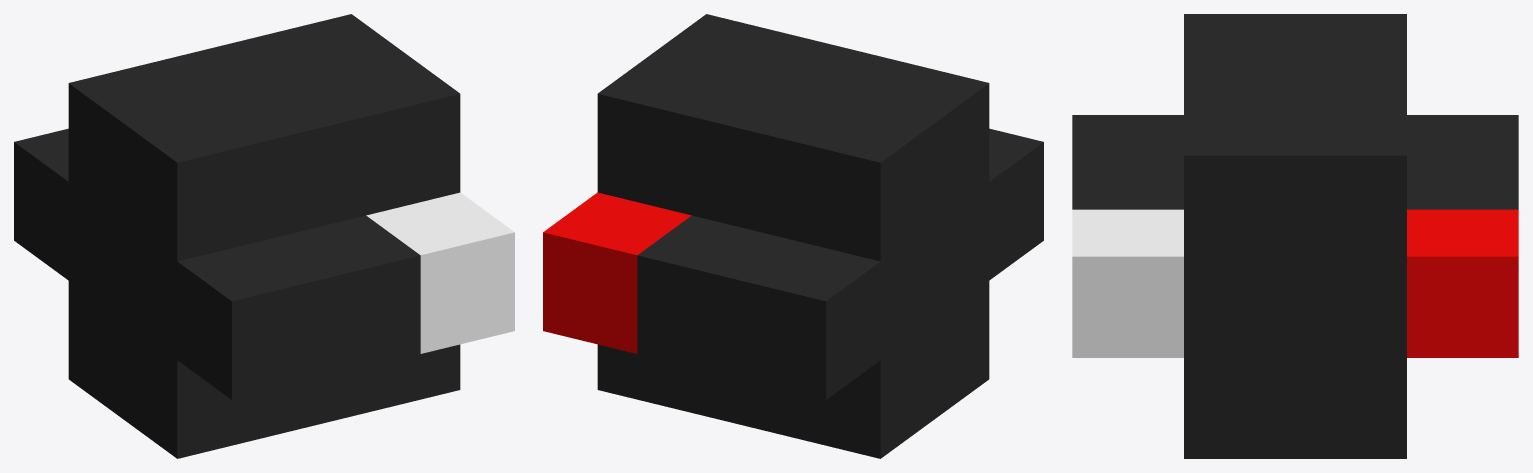
File: CanonXother-8-DualStriker_Pivot_R.obj
3 views of the same model, side by side, from view 1: azimuth 30°, elevation 25°; view 2: azimuth 150°, elevation 25°; view 3: azimuth 270°, elevation 25° (orthographic). The views are drawn at different scales.
Parts seen in each view (by area): view 1: DualStriker_Pivot_R; view 2: DualStriker_Pivot_R; view 3: DualStriker_Pivot_R.
Boxes of the visible parts, bbox=[...] form: DualStriker_Pivot_R: bbox=[14, 14, 514, 458]; DualStriker_Pivot_R: bbox=[543, 14, 1043, 458]; DualStriker_Pivot_R: bbox=[1072, 14, 1518, 458].
Size of the model in its own units: 0.3 by 0.3 by 0.4.
1 material, 1 textured.
